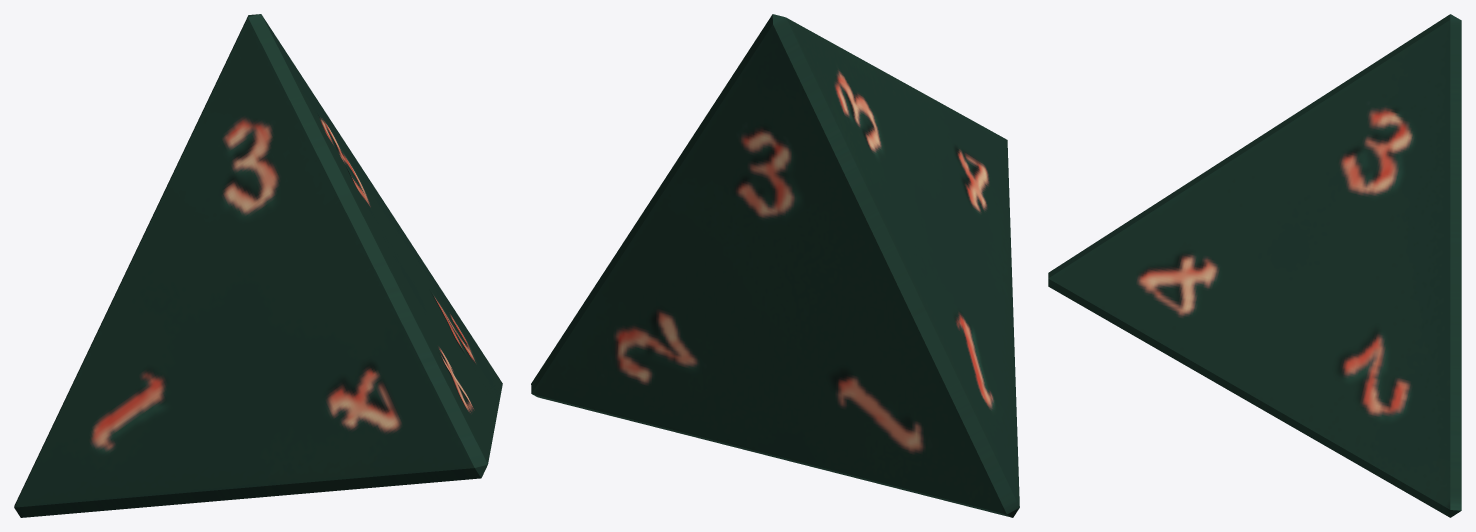
File: dice_4.fbx
3 views of the same model, side by side, from view 1: azimuth 30°, elevation 25°; view 2: azimuth 150°, elevation 25°; view 3: azimuth 270°, elevation 25° (orthographic). The views are drawn at different scales.
Visible parts, largest first — view 1: Object.1; view 2: Object.1; view 3: Object.1.
Part boxes in pixels (x1=…): Object.1: x1=14, y1=14, x2=502, y2=517; Object.1: x1=531, y1=14, x2=1019, y2=517; Object.1: x1=1048, y1=14, x2=1461, y2=517.
Bounding box in the file's own units: 772 × 672 × 630.
